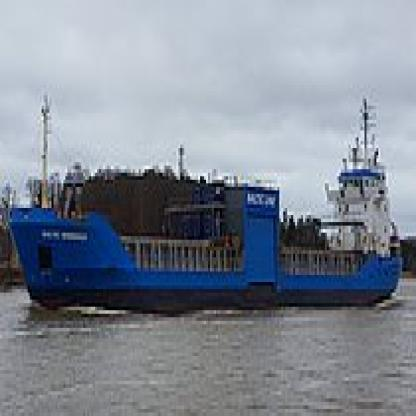Tanker: (20, 88, 404, 307)
